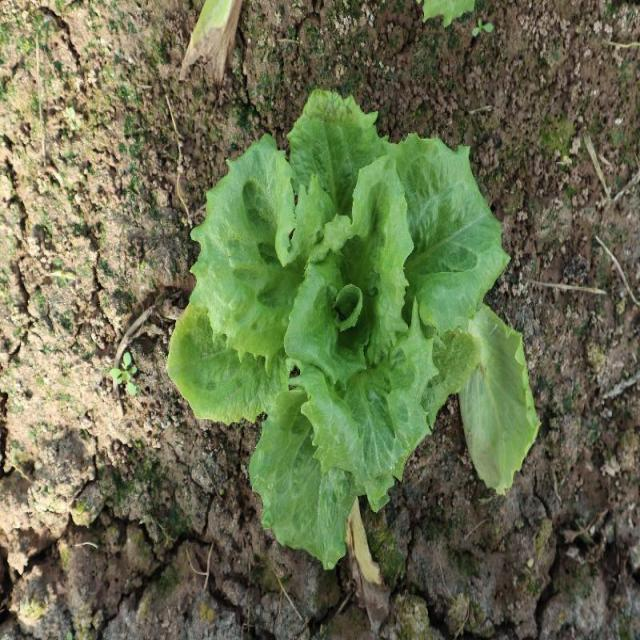crop: (163, 87, 541, 569)
